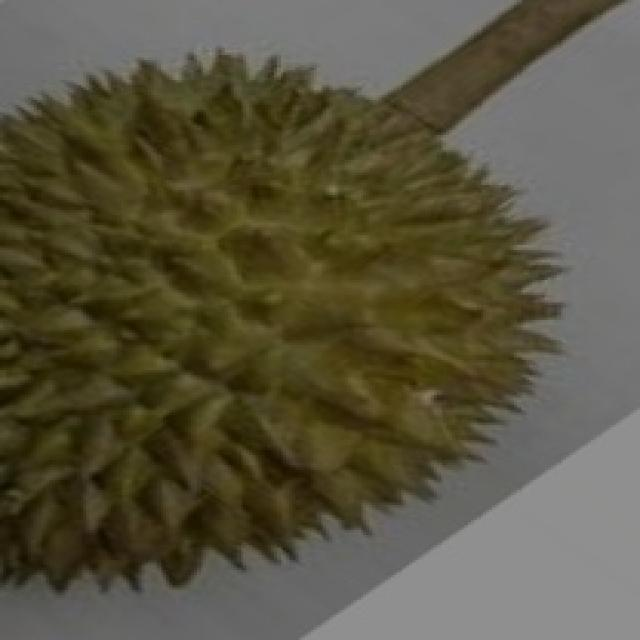fruit: (0, 237, 375, 622)
